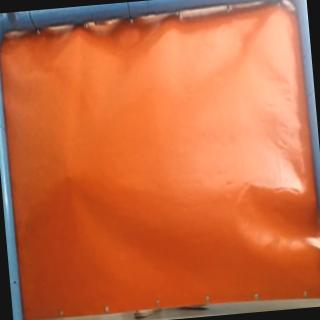Hit-hRxx: (61, 168, 79, 185)
